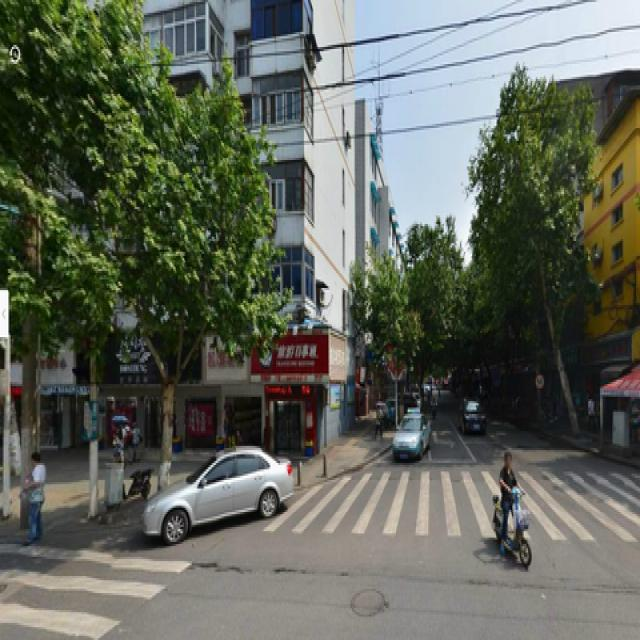meta: (128, 86, 241, 487)
